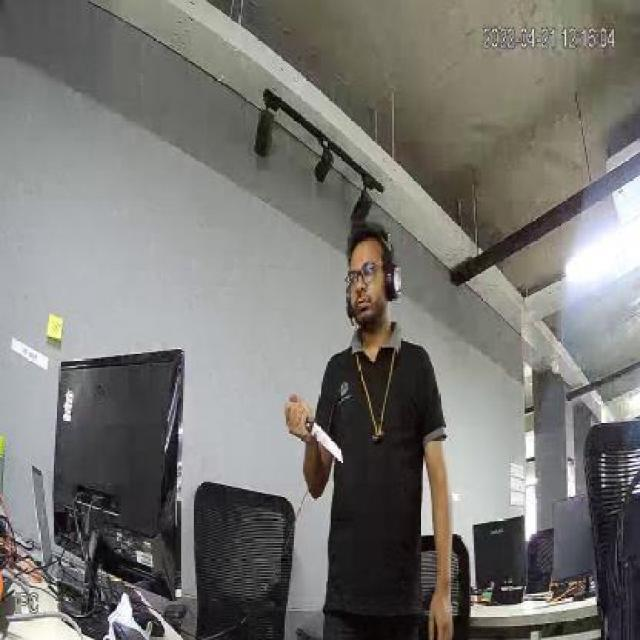-: (305, 402, 343, 480)
